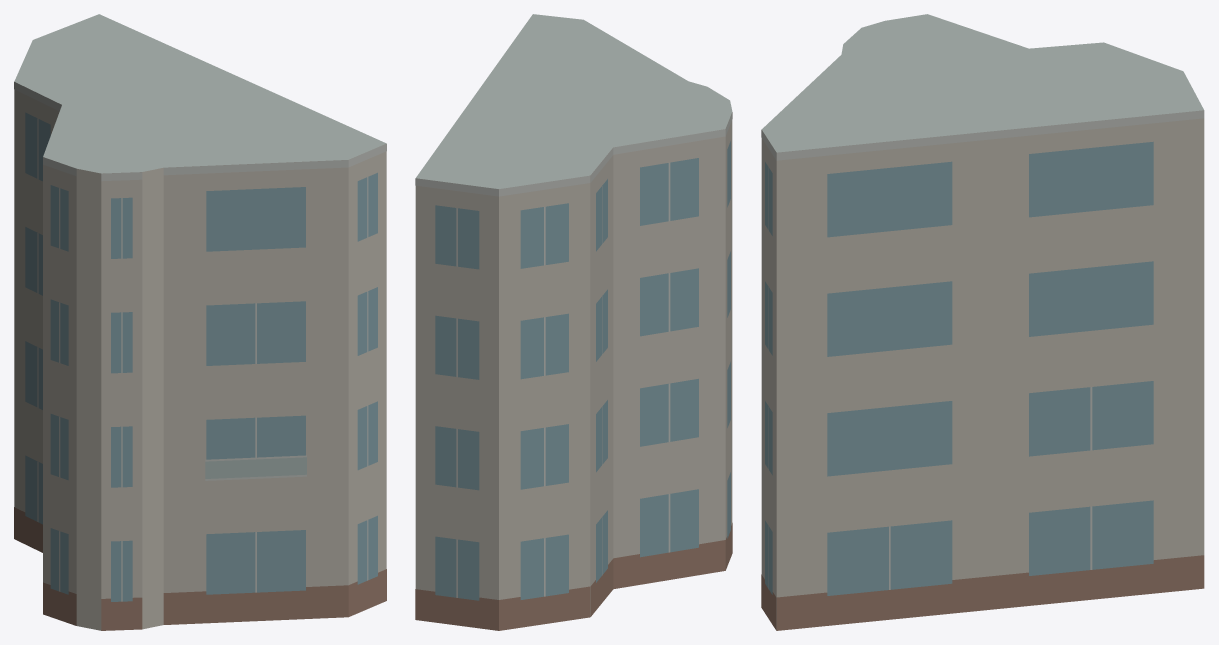
File: survey-upis-32961308.glb
3 renders of one model, left to right at view 1: azimuth 30°, elevation 25°; view 2: azimuth 150°, elevation 25°; view 3: azimuth 270°, elevation 25°, orthographic. The views are drawn at different scales.
Parts seen in each view (by area): view 1: survey-upis-32961308.tmp; view 2: survey-upis-32961308.tmp; view 3: survey-upis-32961308.tmp.
Part boxes in pixels (x1,y1,x2,y2): survey-upis-32961308.tmp: (14,14,386,630); survey-upis-32961308.tmp: (415,14,732,630); survey-upis-32961308.tmp: (761,14,1204,630).
Bounding box in the file's own units: 9.02 × 14.5 × 12.18.
